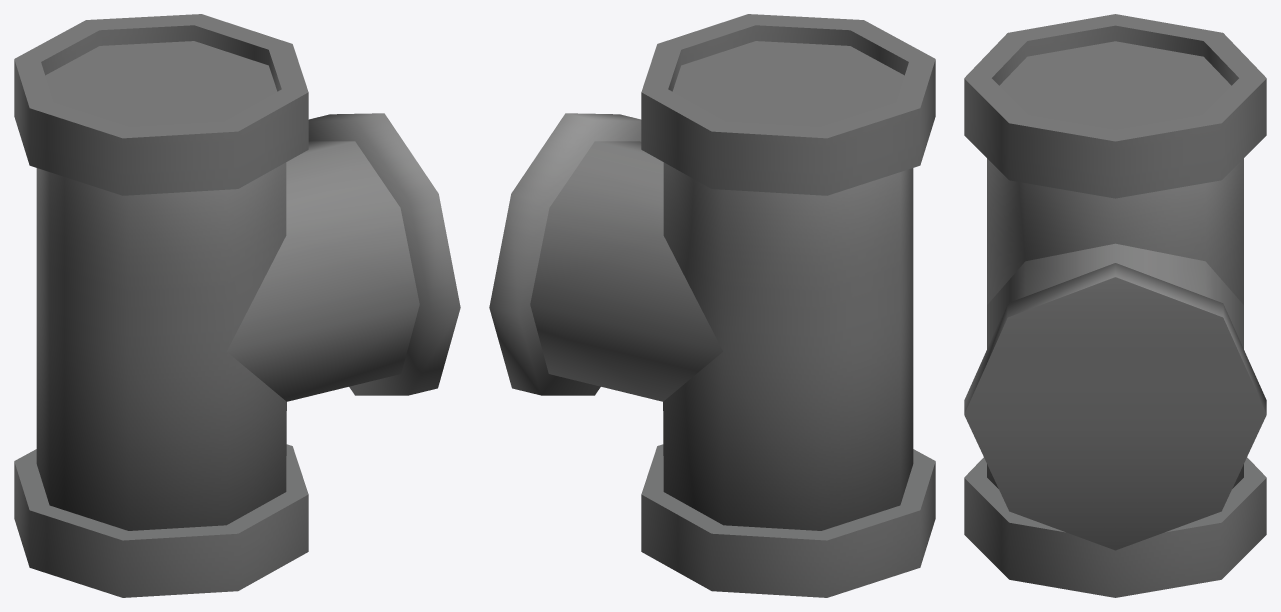
File: Pipe4.glb
3 renders of one model, left to right at view 1: azimuth 30°, elevation 25°; view 2: azimuth 150°, elevation 25°; view 3: azimuth 270°, elevation 25°, orthographic.
Visible parts, largest first — view 1: Pipe4; view 2: Pipe4; view 3: Pipe4.
Part boxes in pixels (x1=…): Pipe4: x1=14, y1=14, x2=460, y2=597; Pipe4: x1=489, y1=14, x2=935, y2=597; Pipe4: x1=964, y1=14, x2=1266, y2=597.
Bounding box in the file's own units: 0.4041 × 0.5 × 0.3004.
Materials: 1 (1 with a texture image).
